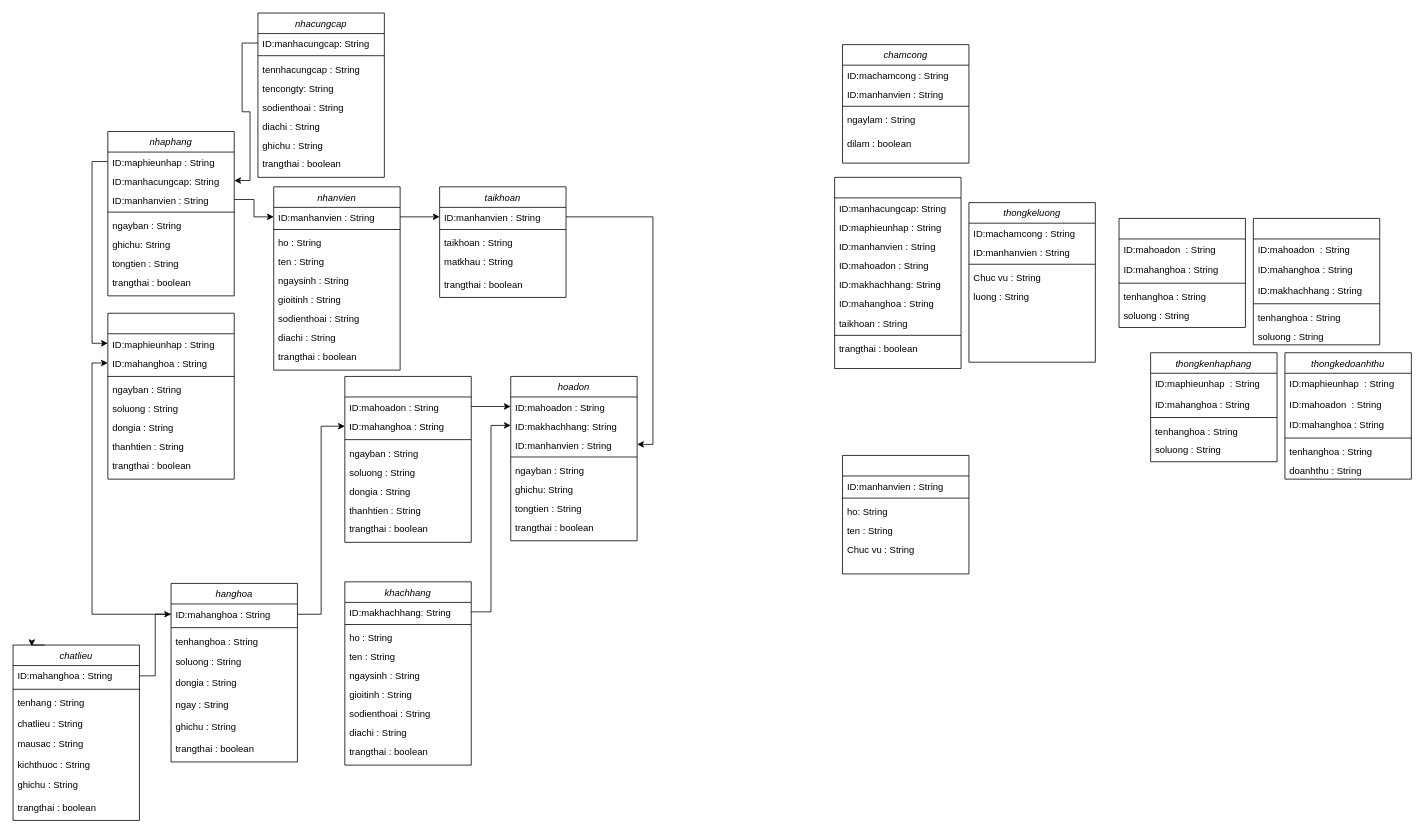
The diagram is 1424 pixels wide and 833 high, and some of its shapes have lost their labels. Here are the shapes that lost their labels. From the top down, the box of each, then its label:
(834, 177, 961, 369): lichsuxoa
(1118, 218, 1245, 327): thongkesoluongban
(1253, 218, 1380, 345): thongkebanhang
(107, 312, 234, 479): chitietnhaphang
(344, 376, 471, 542): chitiethoadon
(842, 455, 969, 574): quyentaikhoan
